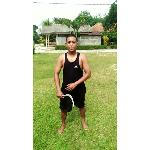Celurit: (52, 86, 78, 112)
